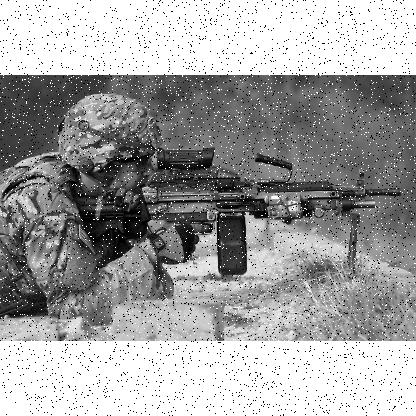gun: (74, 146, 400, 280)
